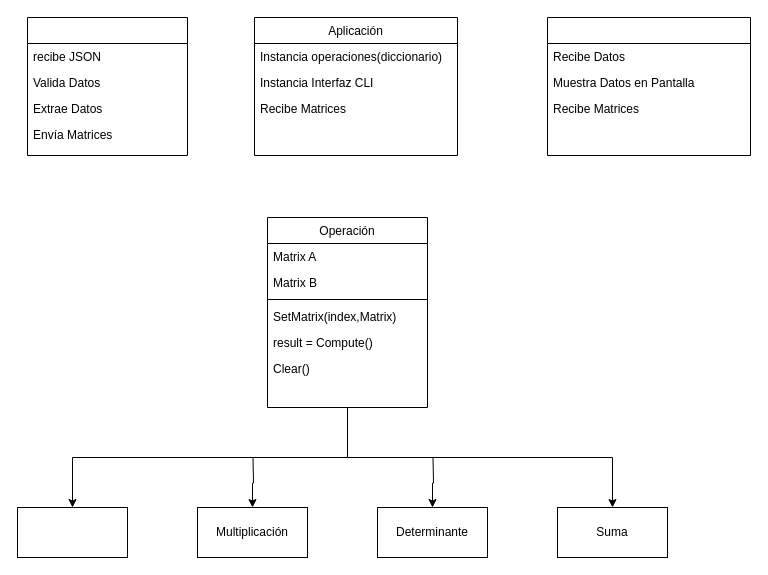
Image size: 768x575. Some labels were removed from this diagram. The shapes that lost their labels are listed below. From the top down, each one's box as (x1, y1, x2, y2) in pixels, then its label:
(26, 16, 188, 156): JSONAdapter
(546, 16, 750, 156): Interfaz
(16, 506, 128, 558): Inversa
